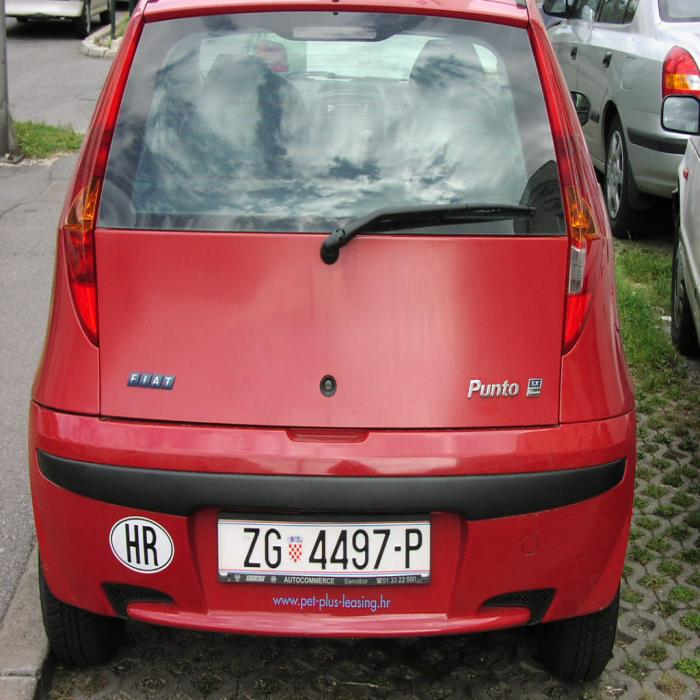number_plate: (218, 522, 428, 574)
